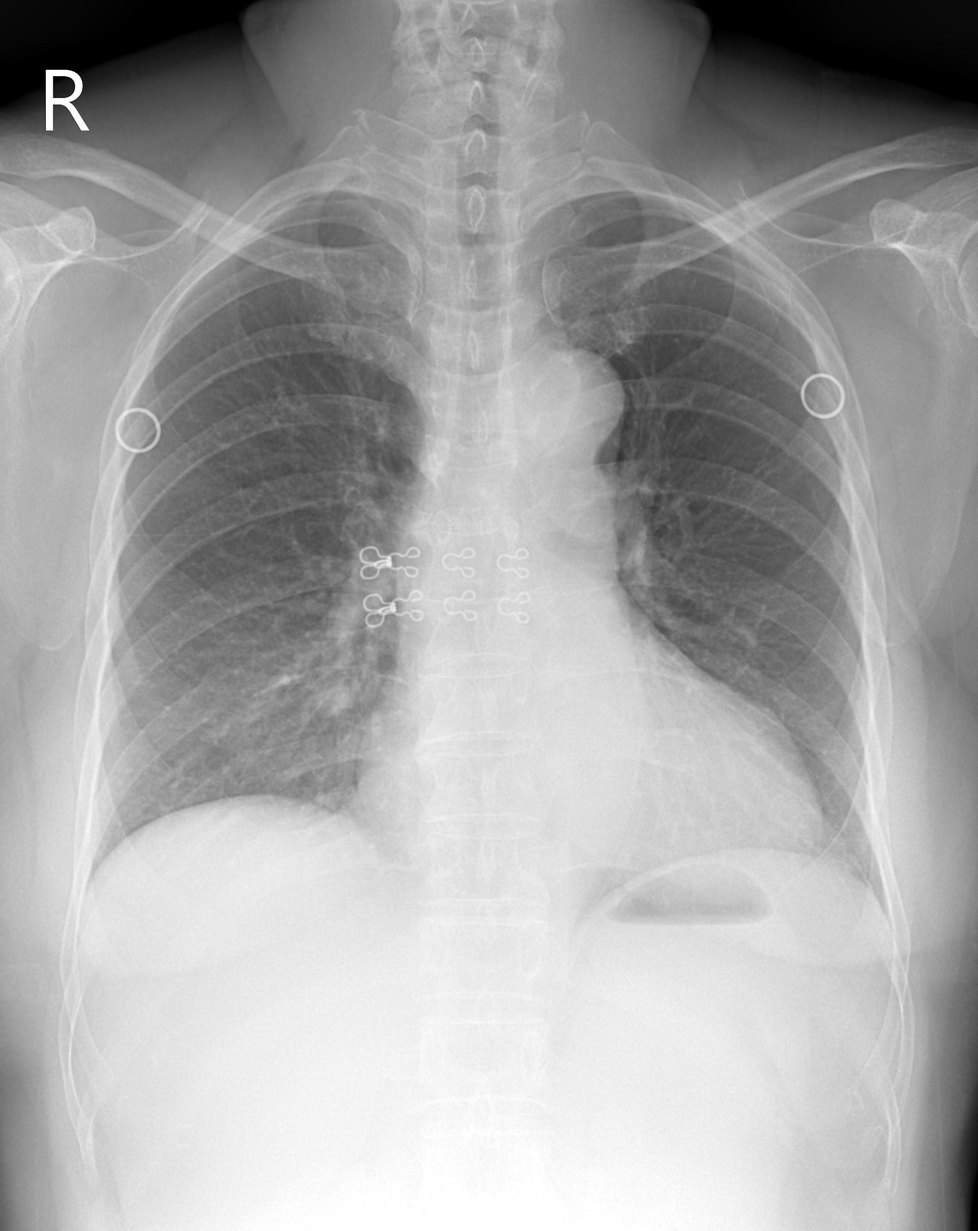Aortic enlargement: (504, 347, 626, 450)
Cardiomegaly: (339, 701, 838, 901)
